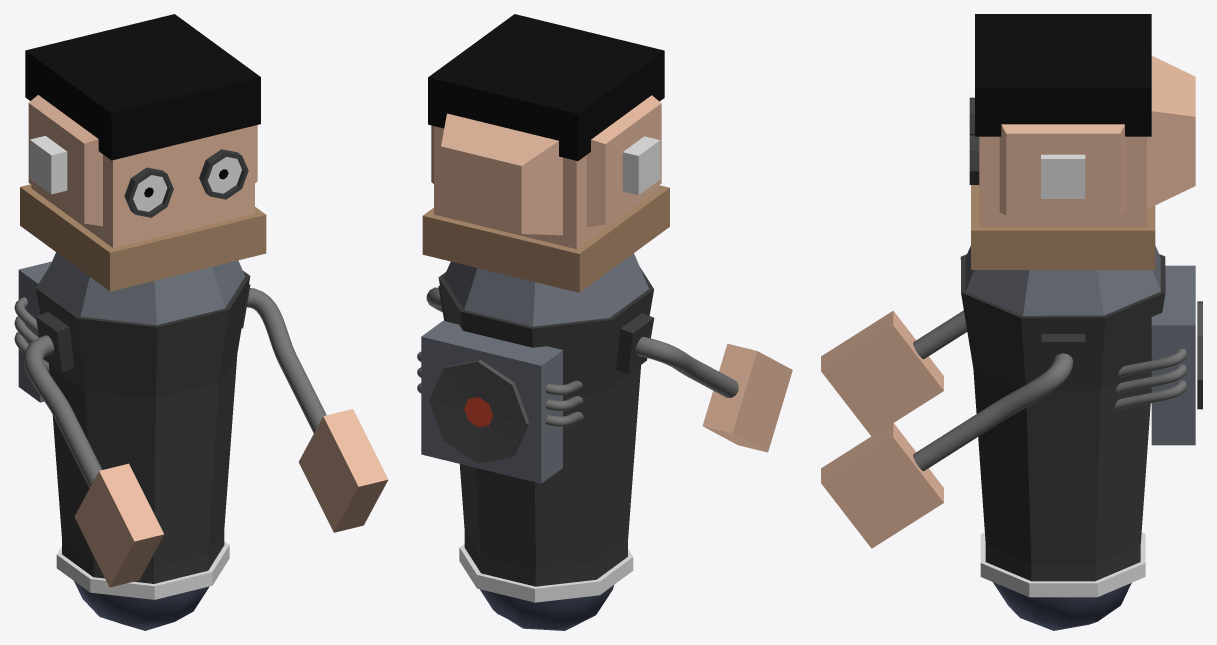
Rendered from gaben_enemy1.fbx.
3 views of the same model, side by side, from view 1: azimuth 30°, elevation 25°; view 2: azimuth 150°, elevation 25°; view 3: azimuth 270°, elevation 25° (orthographic). The views are drawn at different scales.
Parts seen in each view (by area): view 1: Cube.006, Cylinder, Cube.003, Cube.001, Cylinder.001, BezierCurve, Cube, Cube.004, BezierCurve.003; view 2: Cube.006, Cylinder, Cube.004, Cube.001, Cylinder.001, Cylinder.003, Cube.003, Cube, BezierCurve, BezierCurve.003; view 3: Cylinder, Cube.006, Cube.003, Cube.001, Cylinder.001, Cube.004, BezierCurve, Cube, BezierCurve.003, Cylinder.003.
Part boxes in pixels (x1,y1,x2,y2): Cube.006: (25,14,260,247); Cylinder: (36,265,250,599); Cube.003: (74,409,388,587); Cube.001: (20,184,266,291); Cylinder.001: (41,252,245,325); BezierCurve: (24,288,326,487); Cube: (74,581,208,630); Cube.004: (18,261,51,402); BezierCurve.003: (14,297,49,372); Cube.006: (428,14,664,249); Cylinder: (438,267,654,602); Cube.004: (421,321,562,483); Cube.001: (422,185,669,292); Cylinder.001: (443,253,648,326); Cylinder.003: (429,359,529,463); Cube.003: (702,343,792,452); Cube: (480,585,613,630); BezierCurve: (426,287,738,397); BezierCurve.003: (417,351,583,426); Cylinder: (960,254,1165,597); Cube.006: (969,14,1195,226); Cube.003: (821,310,943,548); Cube.001: (971,185,1155,269); Cylinder.001: (965,246,1160,315); Cube.004: (1151,265,1195,445); BezierCurve: (913,310,1073,471); Cube: (993,582,1131,630); BezierCurve.003: (1114,348,1186,410); Cylinder.003: (1197,301,1202,409).
Bounding box in the file's own units: 680 × 865 × 1420.
